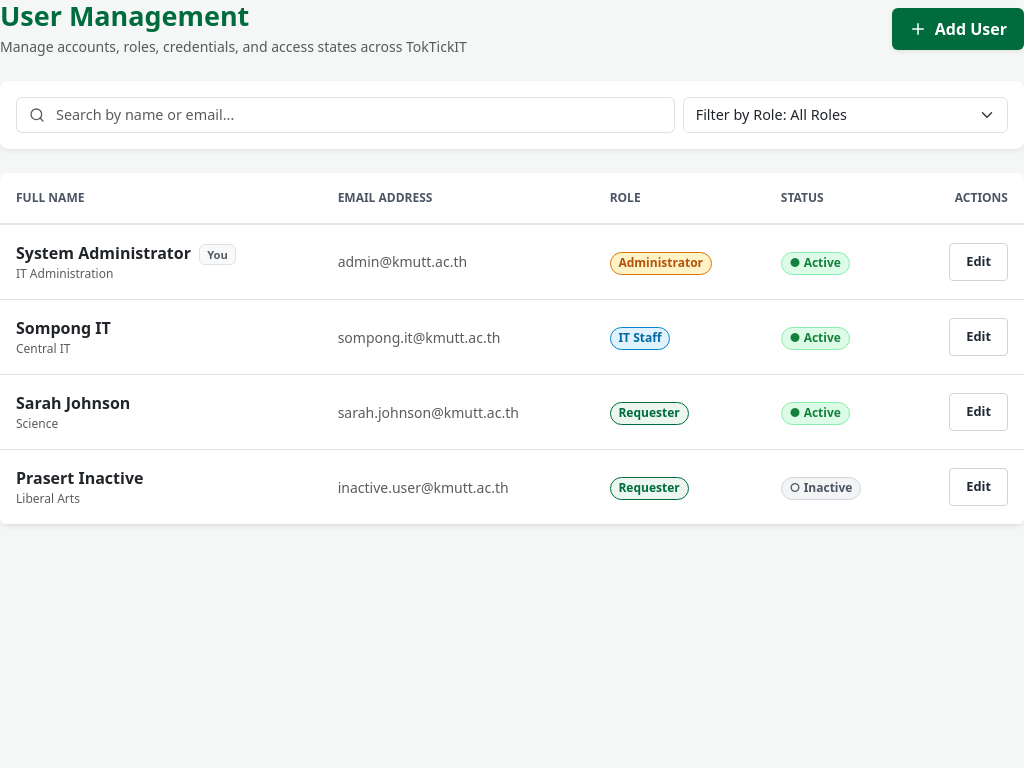
Scenario: Issue 15: Administrator User Management UI Component › UI-ADM-06: disables Active toggle and Role dropdown when editing current admin (AC-15.3, BR-11)
The width and height of the screenshot is (1024, 768).
# Click edit on primary admin (logged in user with ID 10)
Click the button with test id "edit-user-btn-10" at (979, 262), box [949,243,1008,281]
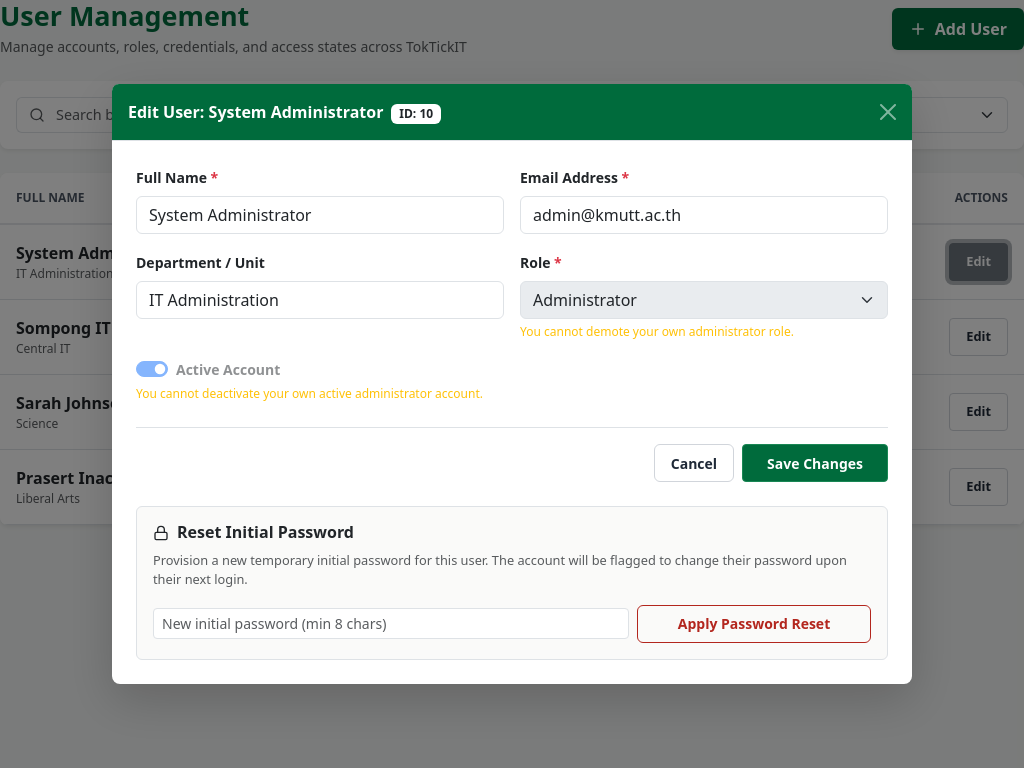
Now the heading "Edit User: System Administrator ID: 10" is shown, box [128,100,441,124]
Now the checkbox with test id "edit-user-active" is disabled, box [136,361,168,377]
Now the text "You cannot deactivate your own active administrator account." is shown, box [136,385,483,402]
